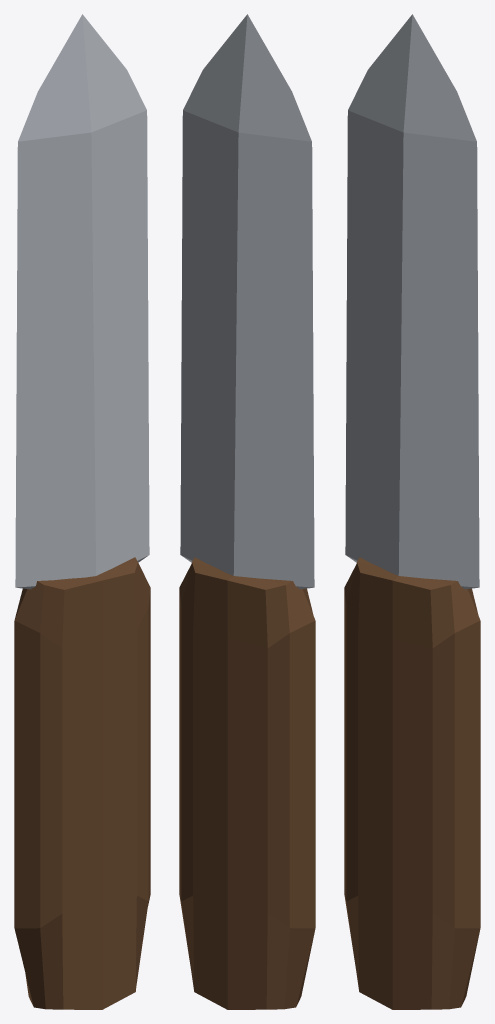
File: dagger.glb
3 renders of one model, left to right at view 1: azimuth 30°, elevation 25°; view 2: azimuth 150°, elevation 25°; view 3: azimuth 330°, elevation 25°, orthographic.
Visible parts, largest first — view 1: Dagger; view 2: Dagger; view 3: Dagger.
Part boxes in pixels (bbox=[...]): Dagger: bbox=[14, 14, 150, 1009]; Dagger: bbox=[179, 14, 315, 1009]; Dagger: bbox=[344, 14, 480, 1009].
Bounding box in the file's own units: 0.0495 × 0.3414 × 0.025.
